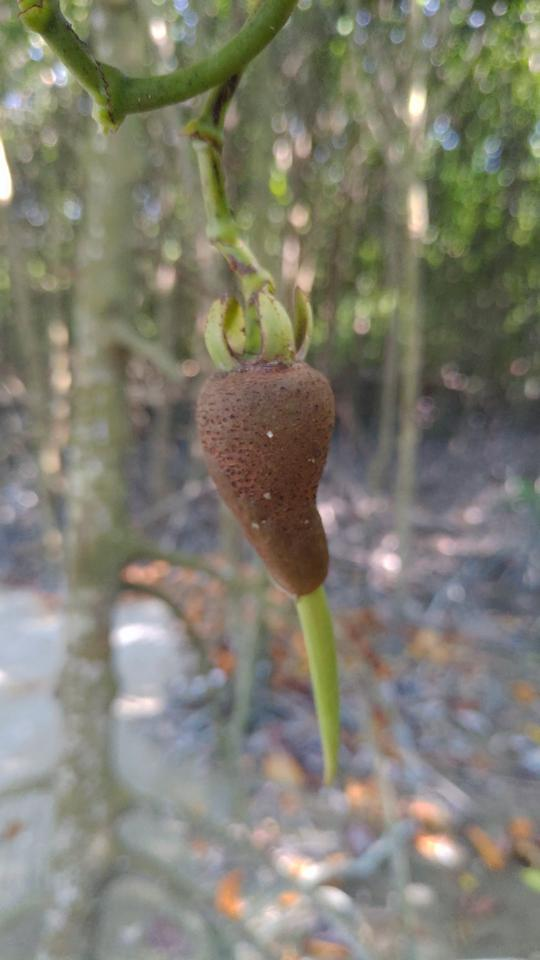mentah: (183, 280, 368, 812)
